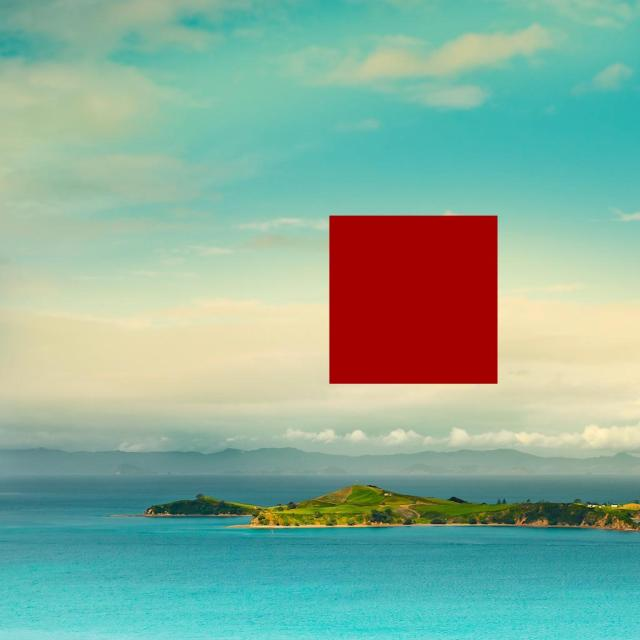RedSquare: (324, 206, 510, 395)
